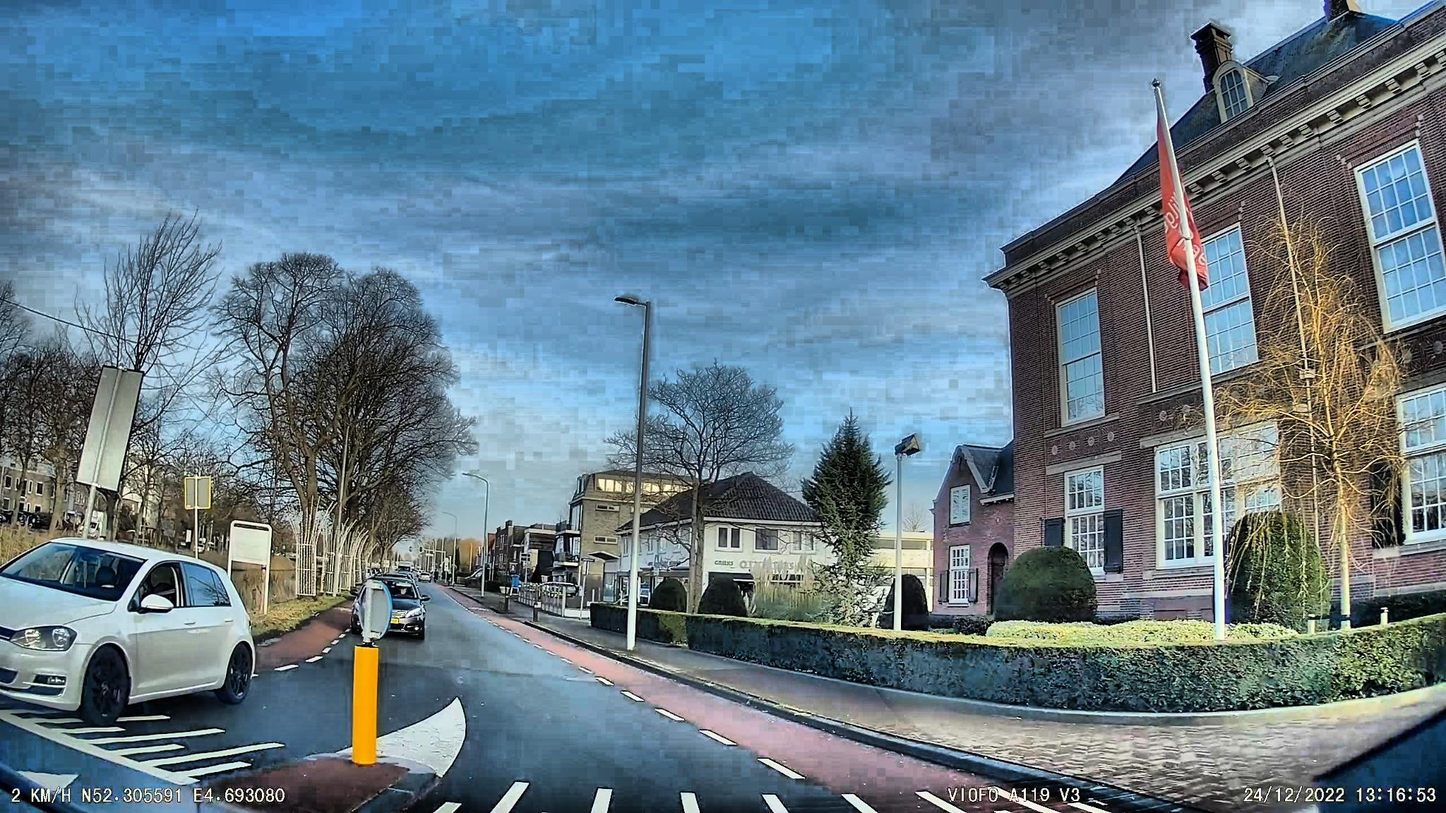Roads: (0, 592, 1202, 813)
